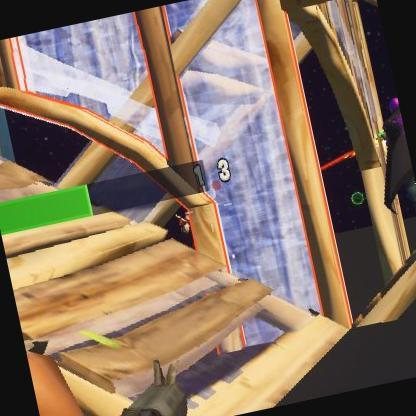person: (374, 95, 416, 239)
